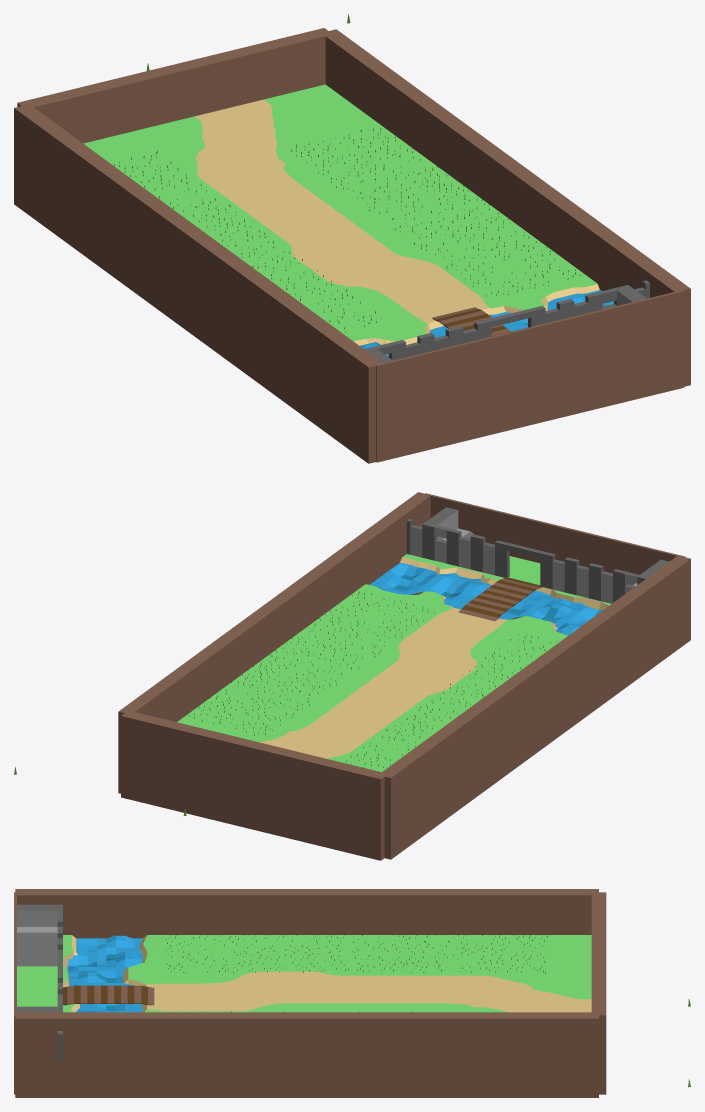
Rendered from Map 1.fbx.
3 views of the same model, one above another, from view 1: azimuth 30°, elevation 25°; view 2: azimuth 150°, elevation 25°; view 3: azimuth 270°, elevation 25° (orthographic). The views are drawn at different scales.
Visible parts, largest first — view 1: Plane, Cube, Cube.002, Cube.001, Cube.003, Cube.005, Cube.004, Plane.004, Plane.001; view 2: Plane, Cube, Cube.003, Cube.001, Cube.002, Plane.001, Cube.005, Cube.004, Plane.004; view 3: Cube.001, Plane, Cube, Plane.001, Cube.004, Cube.003, Plane.004, Cube.005, Cube.002.
Part boxes in pixels (bbox=[...]): Plane: bbox=[83, 84, 599, 345]; Cube: bbox=[14, 106, 383, 463]; Cube.002: bbox=[376, 290, 684, 462]; Cube.001: bbox=[325, 29, 690, 386]; Cube.003: bbox=[17, 28, 332, 143]; Cube.005: bbox=[487, 280, 649, 327]; Cube.004: bbox=[364, 319, 491, 362]; Plane.004: bbox=[432, 307, 510, 336]; Plane.001: bbox=[360, 289, 613, 356]; Plane: bbox=[177, 554, 610, 772]; Cube: bbox=[382, 555, 690, 859]; Cube.003: bbox=[121, 710, 387, 860]; Cube.001: bbox=[118, 492, 430, 793]; Cube.002: bbox=[425, 493, 685, 574]; Plane.001: bbox=[370, 562, 603, 635]; Cube.005: bbox=[406, 507, 543, 577]; Cube.004: bbox=[540, 551, 668, 603]; Plane.004: bbox=[458, 577, 541, 621]; Cube.001: bbox=[15, 1012, 598, 1097]; Plane: bbox=[17, 935, 591, 1012]; Cube: bbox=[15, 889, 598, 938]; Plane.001: bbox=[67, 935, 142, 1012]; Cube.004: bbox=[17, 904, 62, 966]; Cube.003: bbox=[591, 892, 606, 1094]; Plane.004: bbox=[63, 985, 154, 1005]; Cube.005: bbox=[17, 955, 62, 1061]; Cube.002: bbox=[14, 892, 16, 1094].
Size of the model in its own units: 255 by 60 by 464.
